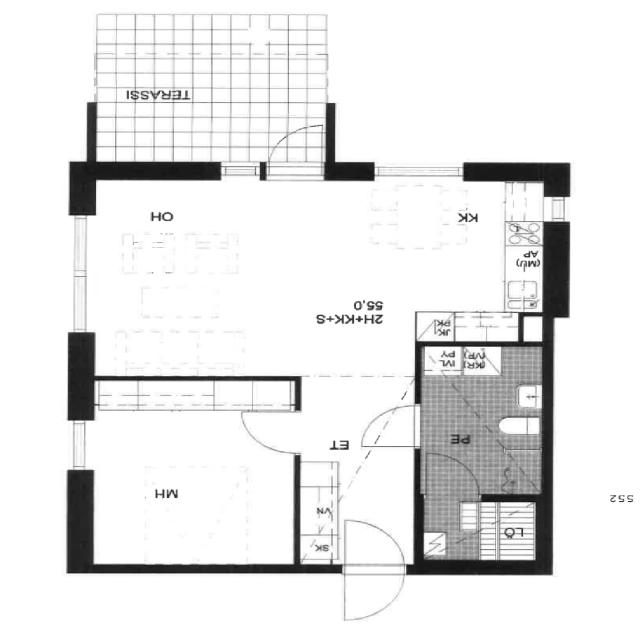door: (334, 518, 412, 624), (238, 408, 304, 457), (362, 402, 429, 450), (417, 451, 480, 497)
window: (65, 216, 94, 339), (61, 415, 95, 479), (372, 160, 470, 181), (262, 165, 329, 184), (213, 159, 268, 181), (541, 191, 573, 227)
zone: (82, 177, 394, 385), (220, 181, 548, 357), (77, 407, 288, 569), (417, 344, 548, 499), (420, 496, 544, 567), (297, 453, 338, 565), (298, 534, 336, 566)
